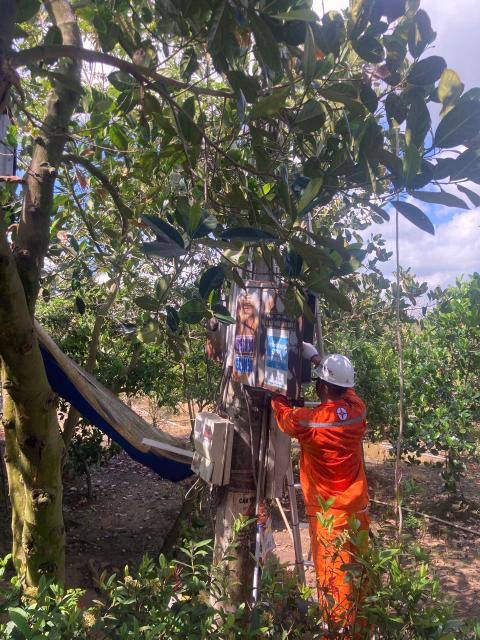gloves: (293, 335, 325, 370)
helmet: (314, 346, 363, 388)
